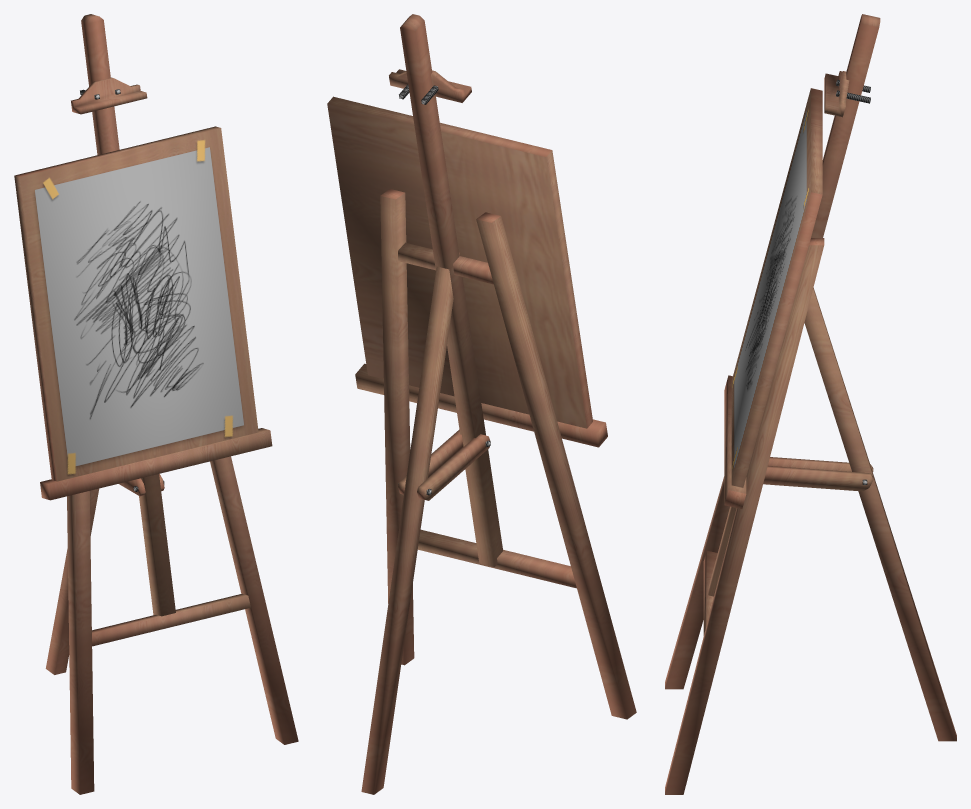
Rendered from Weapon_Huajia_fbx.FBX.
3 renders of one model, left to right at view 1: azimuth 30°, elevation 25°; view 2: azimuth 150°, elevation 25°; view 3: azimuth 270°, elevation 25°, orthographic. The views are drawn at different scales.
Parts seen in each view (by area): view 1: HuaJia; view 2: HuaJia; view 3: HuaJia.
Part boxes in pixels (x1,y1,x2,y2): HuaJia: (14, 14, 298, 794); HuaJia: (327, 14, 636, 794); HuaJia: (665, 14, 956, 794).
Bounding box in the file's own units: 0.5164 × 1.52 × 0.5557.
